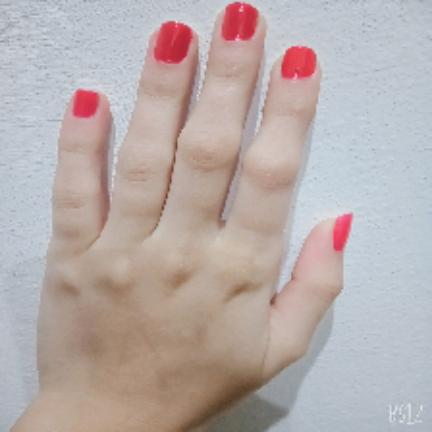Nail: (154, 21, 192, 63), (222, 3, 258, 40), (282, 46, 316, 79), (73, 89, 99, 118), (333, 213, 352, 251)
